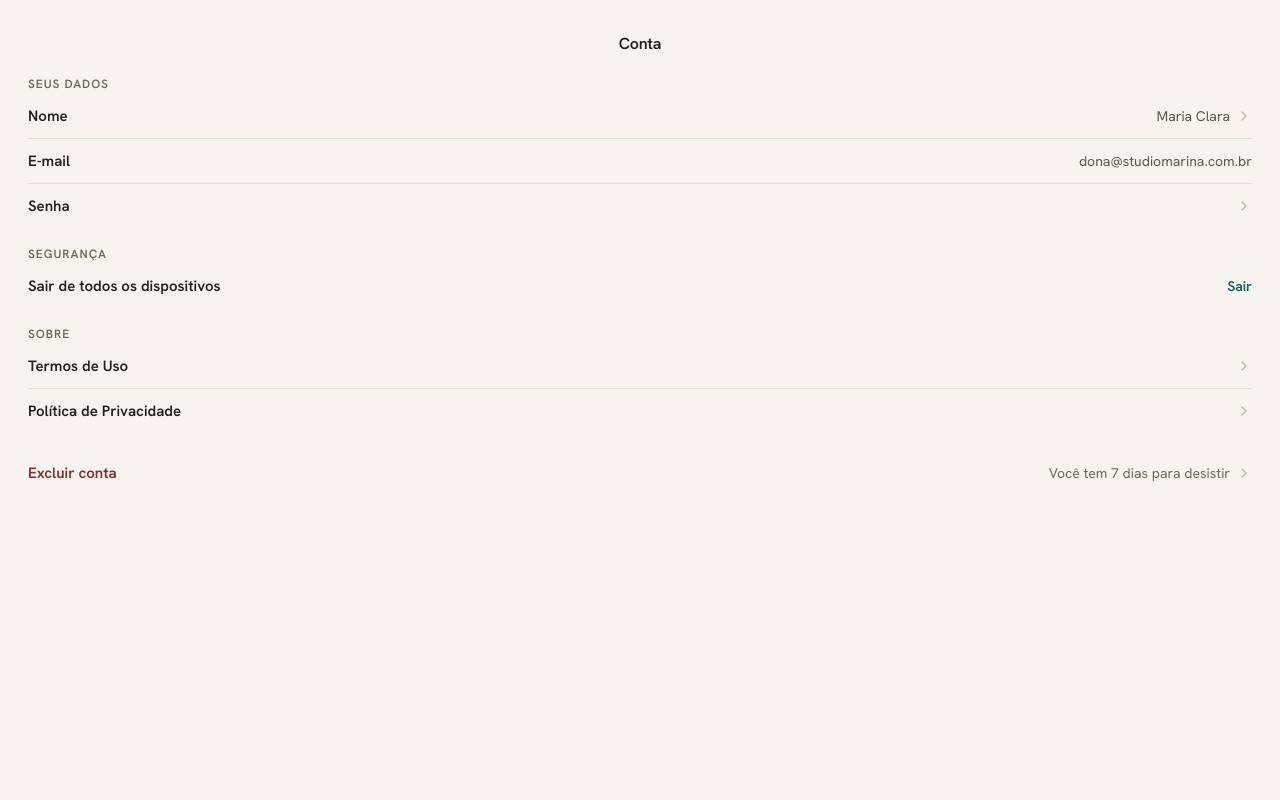
Test: Conta mostra e edita o nome (Goal067) › com nome salvo, mostra o nome e não o convite
What coordinates should you click on to do the following:
click the button "Nome Maria Clara"
I would click on:
 (48, 116)
Its box is [28,94,1252,139].
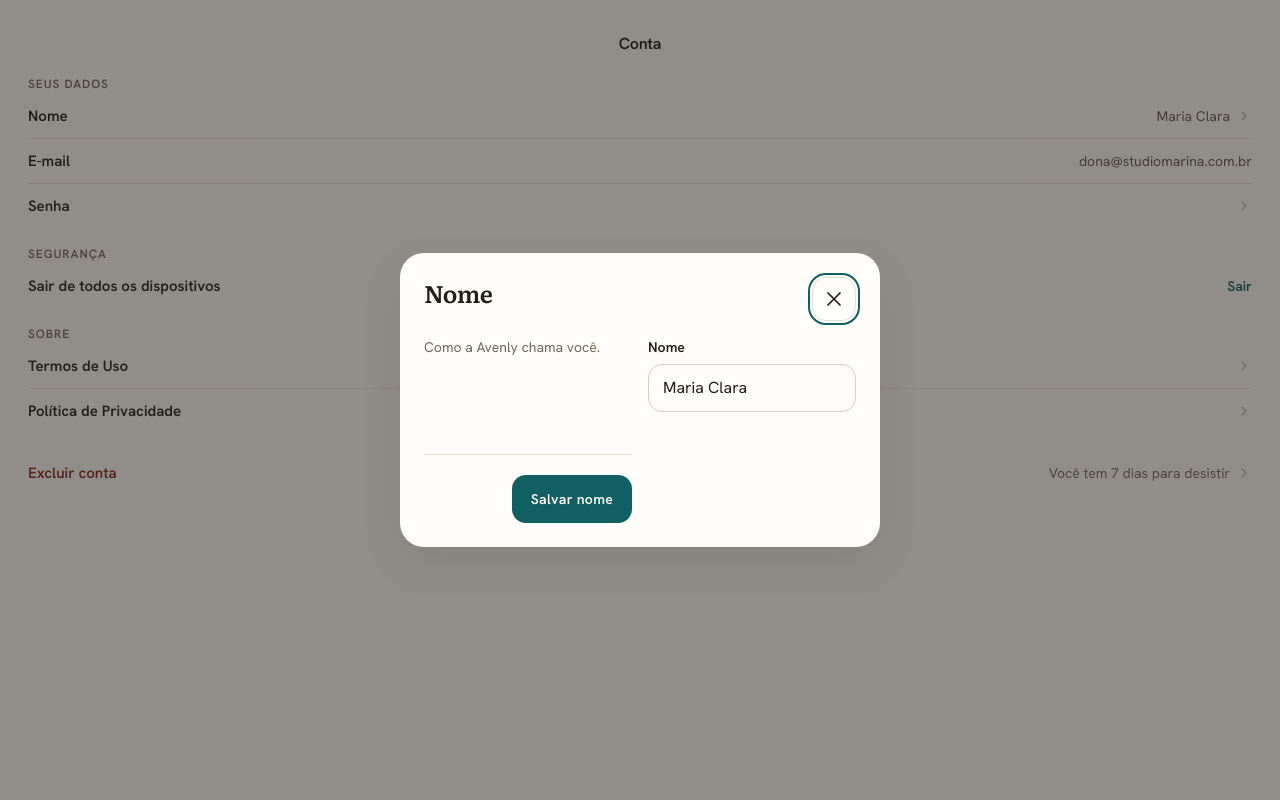
Result: the field labelled "Nome" holds "Maria Clara" at [648,364,856,412]
Result: the text "Como a Avenly chama você." is shown at [424,338,600,356]
